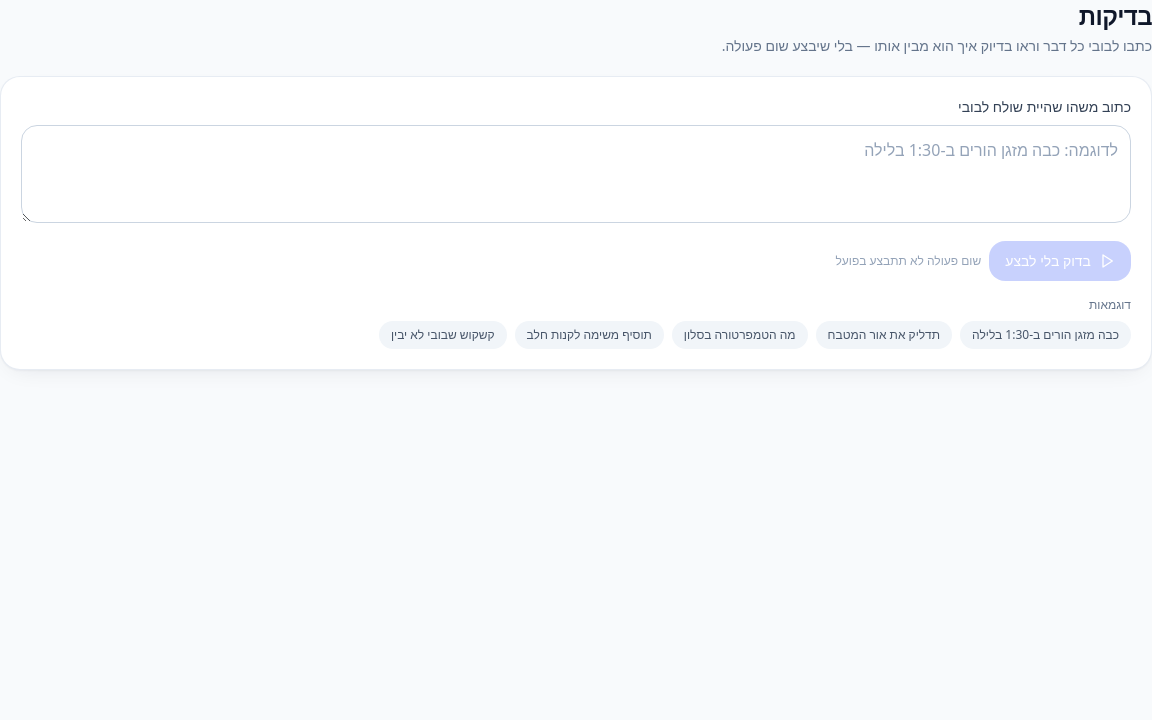
Scenario: TestCenterPage › shows what Bobi understood
The width and height of the screenshot is (1164, 720).
In the text box labelled "כתוב משהו שהיית שולח לבובי": coordinates (576, 174) top-left (21, 125), bottom-right (1131, 223), type "כבה מזגן הורים"
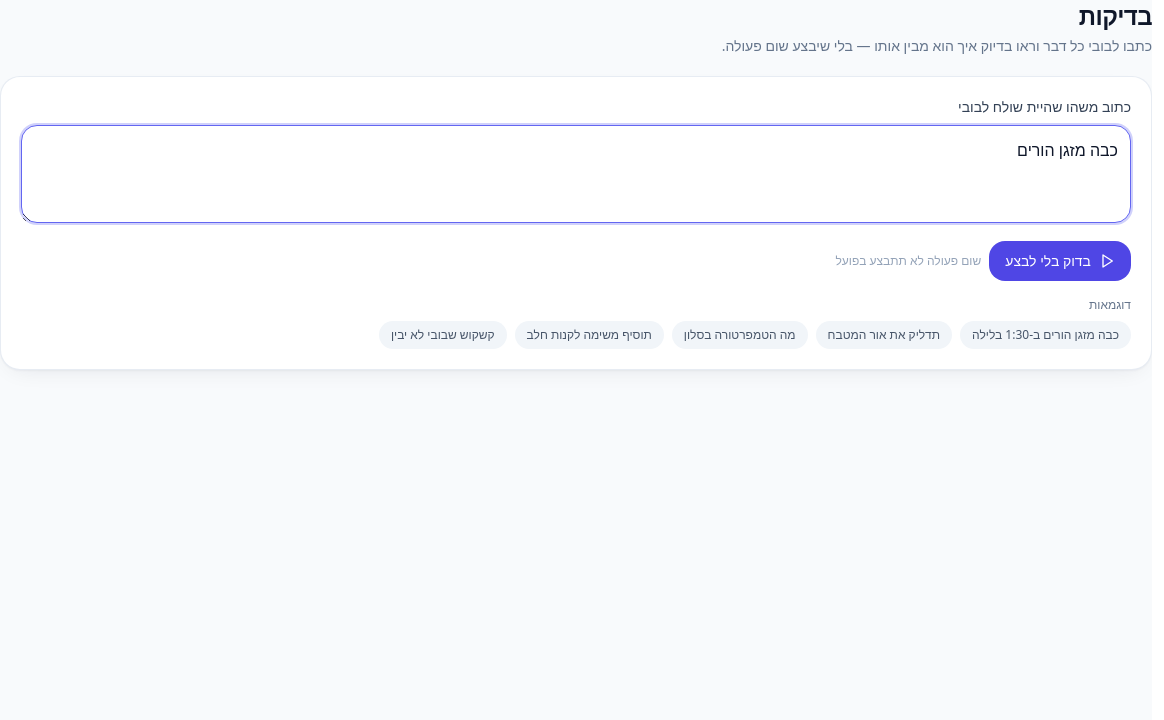
Click the button "בדוק בלי לבצע": coordinates (1060, 261) top-left (989, 241), bottom-right (1131, 281)
(page scrolled)
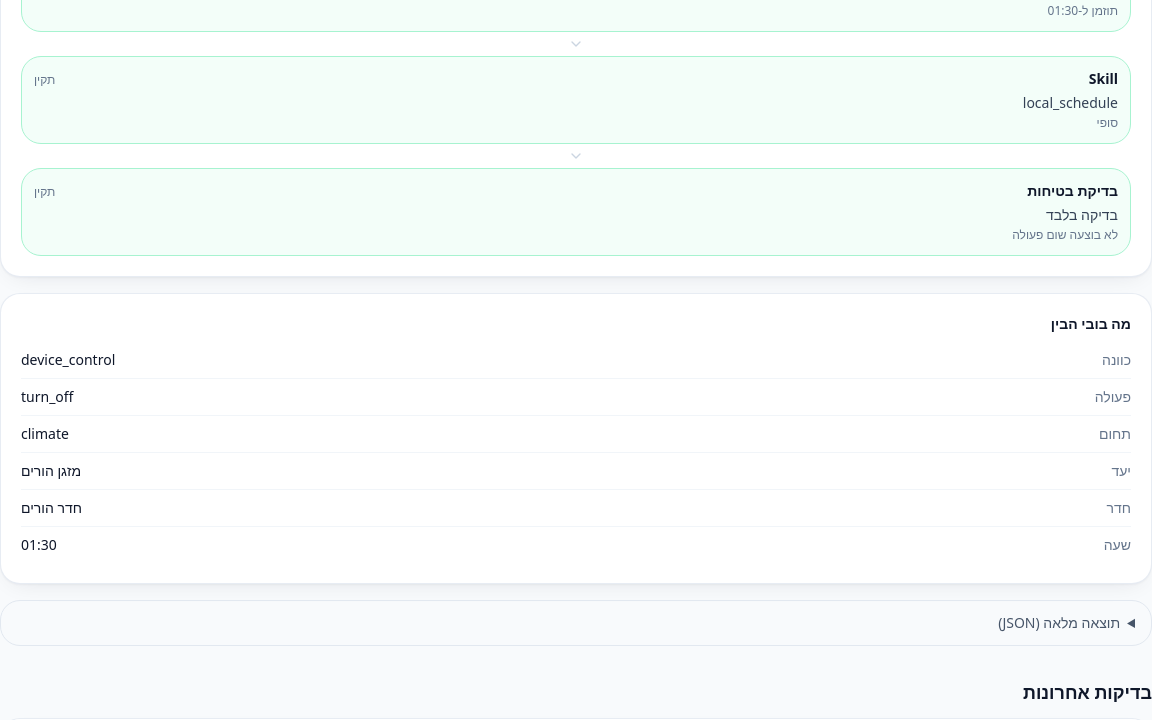
Check: the text "כוונה" is shown, box top-left (1102, 350), bottom-right (1131, 370)
Check: the text "device_control" is shown, box top-left (21, 350), bottom-right (115, 370)
